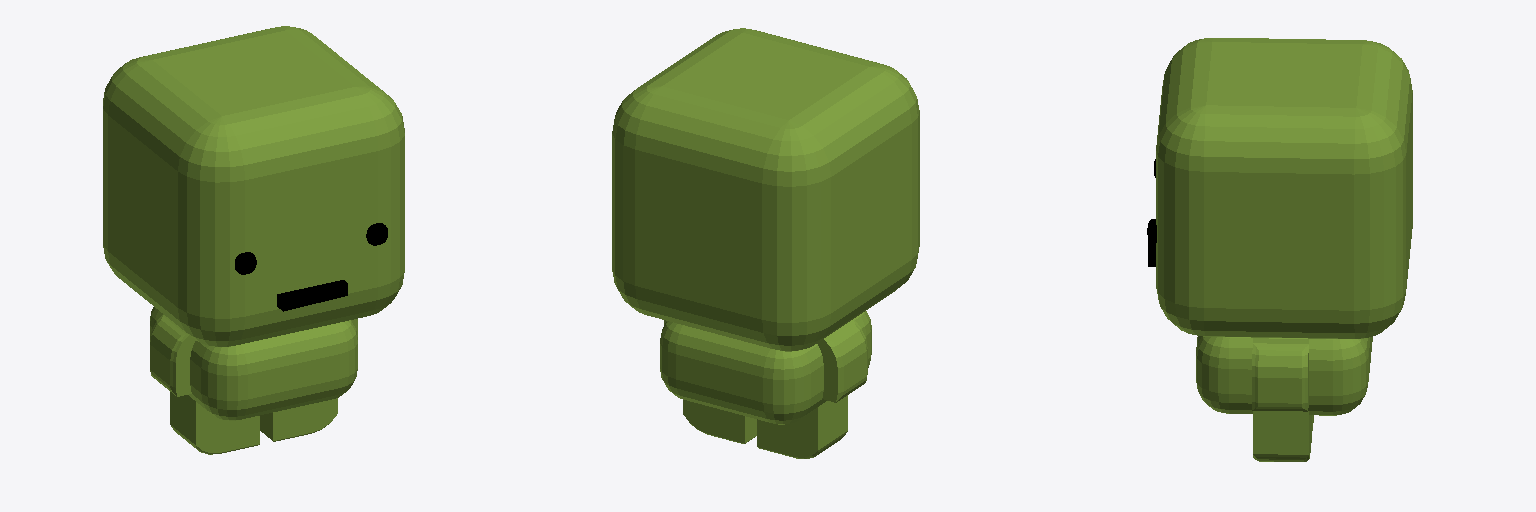
File: soso.obj
3 renders of one model, left to right at view 1: azimuth 30°, elevation 25°; view 2: azimuth 150°, elevation 25°; view 3: azimuth 270°, elevation 25°, orthographic.
Visible parts, largest first — view 1: The_limited_1_Head_1, The_limited_1_Body, Cube_Cube.004; view 2: The_limited_1_Head_1, The_limited_1_Body; view 3: The_limited_1_Head_1, The_limited_1_Body.
Boxes of the visible parts, x1=… form: The_limited_1_Head_1: x1=103, y1=26, x2=404, y2=346; The_limited_1_Body: x1=150, y1=307, x2=357, y2=454; Cube_Cube.004: x1=277, y1=280, x2=347, y2=311; The_limited_1_Head_1: x1=612, y1=28, x2=919, y2=351; The_limited_1_Body: x1=660, y1=311, x2=871, y2=458; The_limited_1_Head_1: x1=1156, y1=38, x2=1412, y2=338; The_limited_1_Body: x1=1196, y1=336, x2=1372, y2=461.
Bounding box in the file's own units: 3.03 × 4.72 × 3.13.